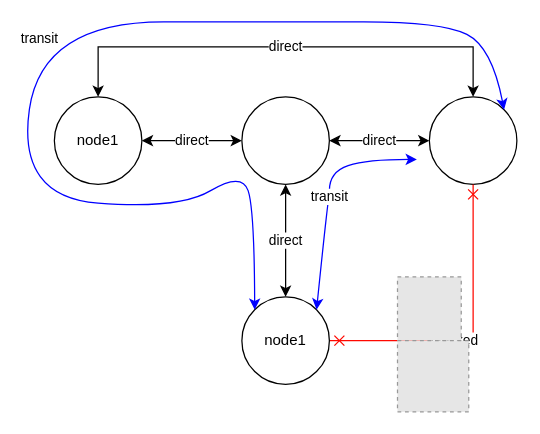
Some shapes in this 540 by 434 pixel diagram are drawn without their labels. Grey dashed boxes stand in for pictures. The centre of each missing label's shape, as x and y in pixels:
node2: (285,140)
node3: (472,140)
